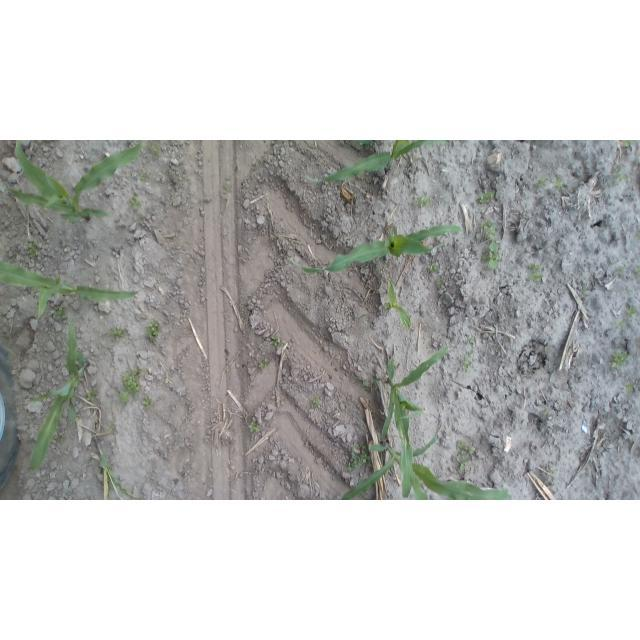Maize: (334, 420, 512, 500), (4, 140, 144, 221), (378, 343, 452, 481), (25, 315, 89, 472), (285, 218, 463, 274), (1, 259, 141, 320), (301, 140, 447, 188), (92, 444, 141, 501), (384, 278, 412, 330)
Weeds: (119, 367, 142, 403), (346, 443, 370, 472), (455, 441, 475, 474), (482, 241, 502, 270), (609, 349, 631, 371), (144, 317, 161, 343), (524, 261, 544, 283), (481, 219, 500, 242), (459, 349, 477, 373), (107, 325, 128, 343), (475, 189, 495, 206), (414, 194, 432, 210), (127, 194, 143, 211), (612, 167, 628, 184), (25, 240, 39, 259), (84, 389, 100, 404), (53, 305, 67, 320), (271, 332, 282, 350), (553, 177, 567, 191), (579, 285, 593, 299), (147, 143, 162, 156), (533, 176, 549, 188), (428, 262, 441, 275), (623, 381, 635, 395), (363, 378, 378, 389), (222, 182, 234, 195), (626, 305, 638, 318), (247, 422, 261, 433), (138, 167, 149, 181), (311, 395, 322, 409), (143, 396, 154, 410), (257, 359, 269, 371), (546, 467, 559, 478), (620, 141, 635, 150), (465, 335, 477, 346), (617, 320, 628, 331), (617, 266, 627, 277), (107, 420, 117, 431), (132, 365, 142, 376), (436, 277, 446, 287), (633, 266, 640, 278), (57, 434, 66, 443), (224, 364, 232, 374), (287, 238, 295, 247), (86, 456, 93, 465), (542, 408, 549, 417), (370, 407, 376, 415), (45, 140, 53, 144), (637, 336, 640, 346)
